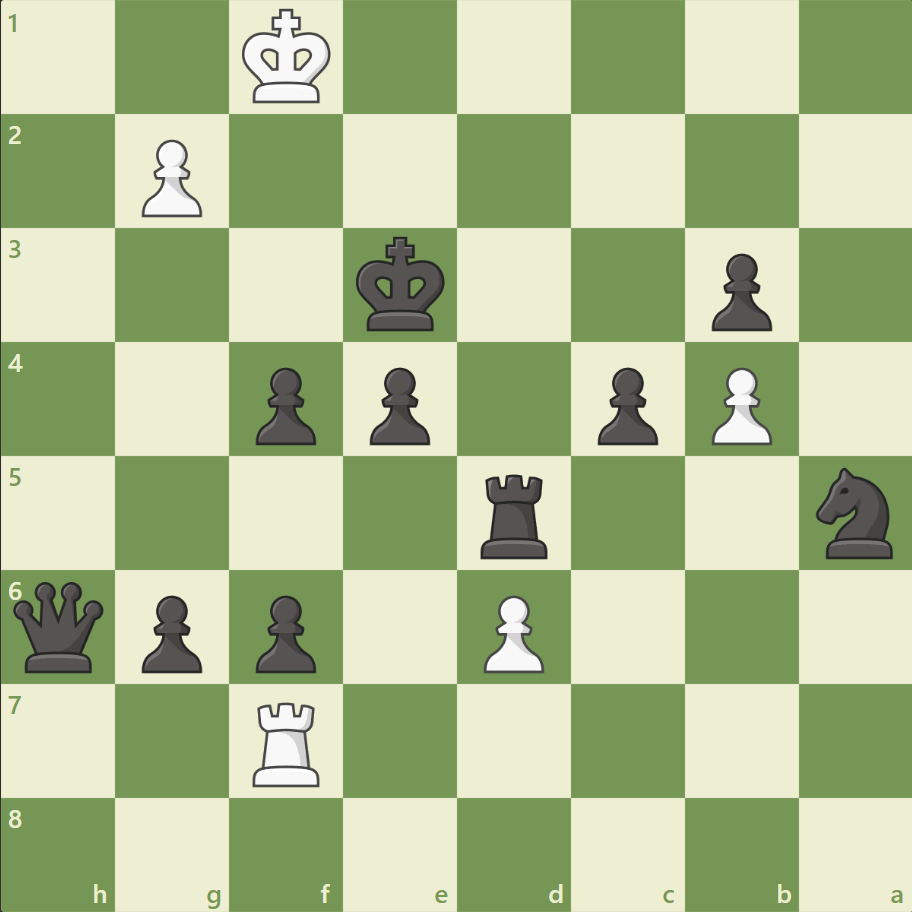K: (238, 4, 338, 112)
P: (474, 586, 549, 677), (701, 359, 776, 450), (133, 132, 208, 223)
R: (246, 693, 329, 790)
k: (351, 231, 451, 339)
n: (806, 461, 903, 564)
p: (247, 586, 322, 677), (133, 586, 208, 677), (247, 359, 322, 450), (701, 246, 776, 337), (588, 359, 662, 450), (361, 359, 435, 450)
q: (10, 576, 109, 676)
r: (473, 466, 556, 563)
